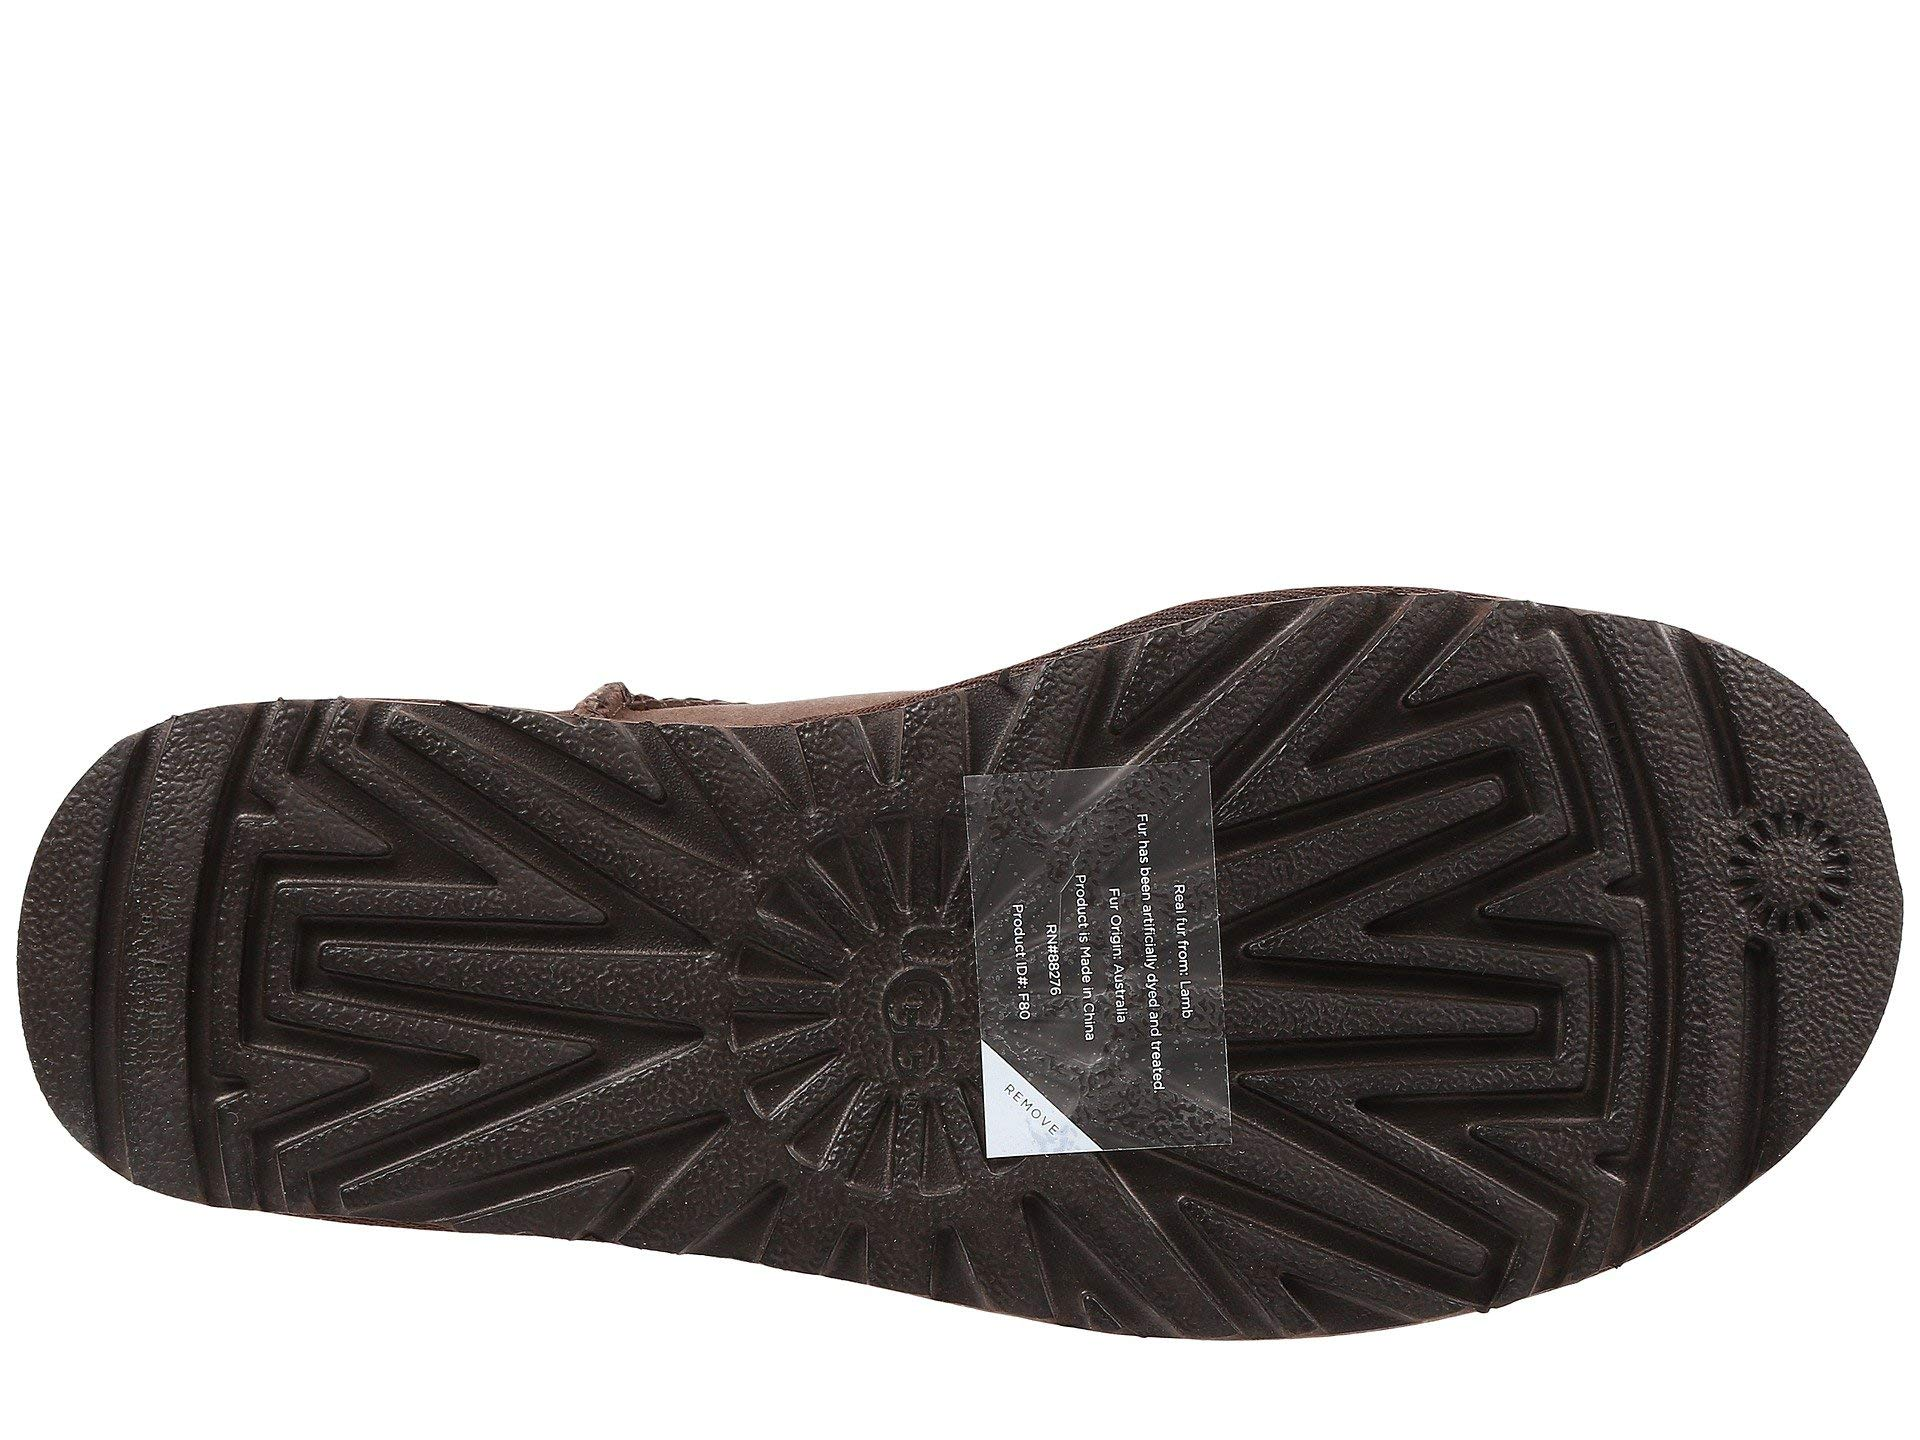chevron: (1287, 585, 1640, 1280)
circle: (1711, 768, 1863, 957)
exclude: (958, 753, 1231, 1159)
line: (35, 734, 221, 1190), (1711, 768, 1863, 957)
text: (726, 827, 969, 1153)
triangle: (726, 827, 969, 1153), (1711, 768, 1863, 957)
